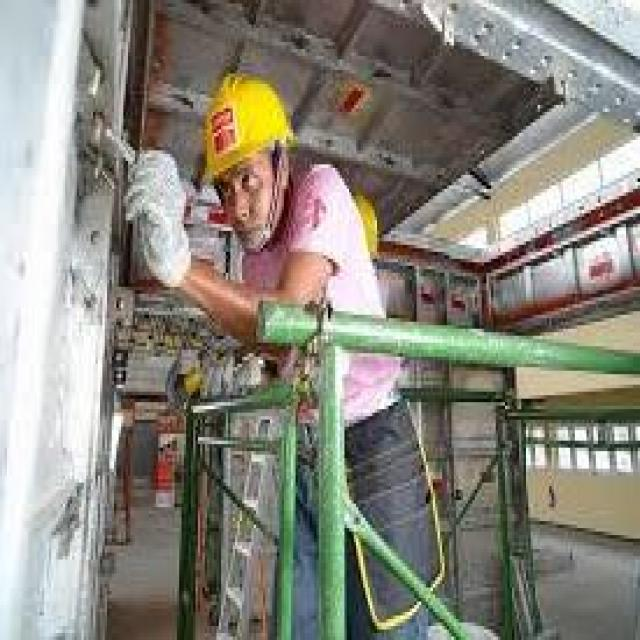Reflective-Jacket: (214, 164, 410, 448)
Safety-Helmet: (193, 59, 303, 196)
